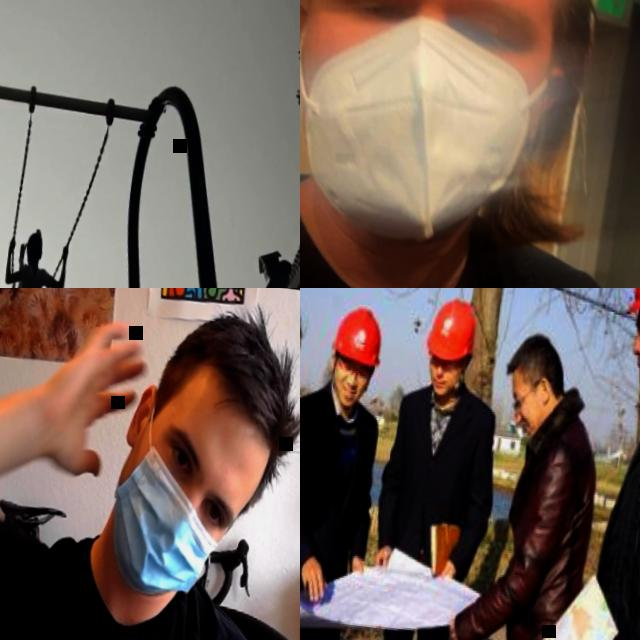Hardhat: (424, 295, 480, 364), (328, 304, 387, 369)
Mask: (300, 0, 556, 259), (101, 384, 240, 601)
NO-Hardhat: (157, 288, 300, 455), (504, 331, 561, 376), (25, 226, 46, 252)
NO-Mask: (517, 394, 547, 440), (330, 377, 361, 411), (429, 371, 458, 400)
NO-Safety Vest: (300, 161, 633, 288), (0, 552, 256, 640), (498, 427, 600, 640), (387, 394, 486, 567), (586, 384, 640, 640), (300, 396, 372, 580), (10, 261, 45, 288)
Person: (0, 288, 300, 640), (300, 0, 640, 288), (340, 288, 520, 640), (420, 322, 614, 640), (300, 293, 397, 640), (552, 288, 640, 640), (0, 222, 69, 288)
